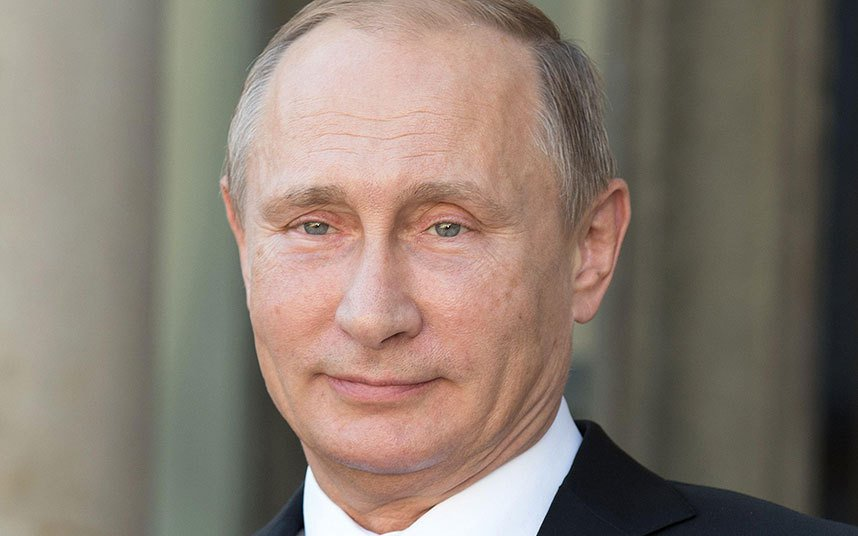noMask: (201, 7, 658, 502)
